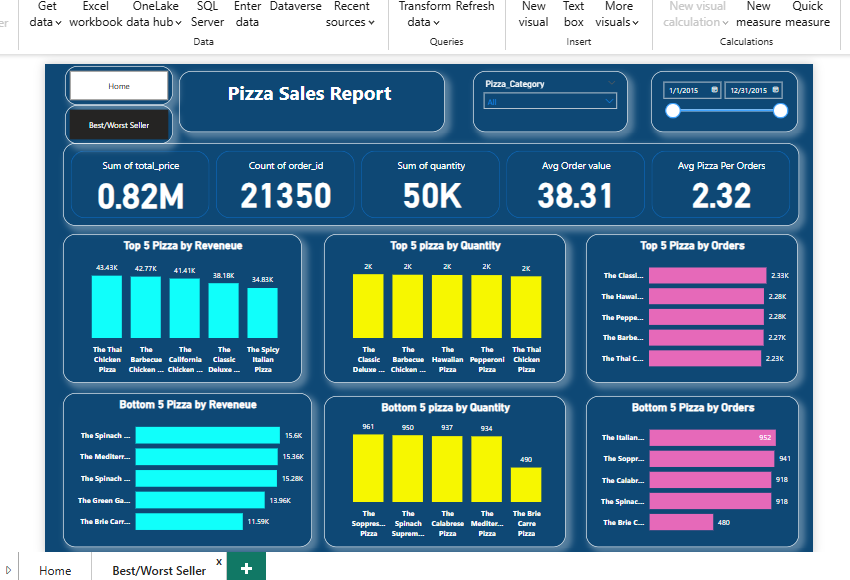

The dashboard page shown, as its layout file describes it:
{"tool":"powerbi","page":{"name":"Best/Worst Seller","canvas":[1280,820],"ordinal":1},"visuals":[{"type":"cardVisual","fields":{"Data":["Sum(pizza_sales.total_price)","Count(pizza_sales.order_id)","Sum(pizza_sales.quantity)","pizza_sales.Avg Order value","pizza_sales.Avg Pizza Per Orders"]},"box":[30,131.7,1226.7,138.3],"z":0},{"type":"columnChart","title":"Top 5 Pizza by Reveneue","fields":{"Category":["pizza_sales.pizza_name"],"Y":["Sum(pizza_sales.total_price)"]},"box":[30,283.3,398.3,248.3],"z":1000},{"type":"textbox","box":[223.3,11.7,443.3,101.7],"z":2000},{"type":"slicer","title":"Order Date","fields":{"Values":["pizza_sales.order_date"]},"box":[1010,11.7,245,101.7],"z":3000},{"type":"columnChart","title":"Top 5 pizza by Quantity","fields":{"Category":["pizza_sales.pizza_name"],"Y":["Sum(pizza_sales.quantity)"]},"box":[465,283.3,403.3,248.3],"z":5000},{"type":"clusteredBarChart","title":"Top 5 Pizza by Orders","fields":{"Category":["pizza_sales.pizza_name"],"Y":["Count(pizza_sales.order_id)"]},"box":[901.7,283.3,353.3,248.3],"z":6000},{"type":"clusteredBarChart","title":"Bottom 5 Pizza by Reveneue","fields":{"Category":["pizza_sales.pizza_name"],"Y":["Sum(pizza_sales.total_price)"]},"box":[30,548.3,415,256.7],"z":7000},{"type":"columnChart","title":"Bottom 5 pizza by Quantity","fields":{"Category":["pizza_sales.pizza_name"],"Y":["Sum(pizza_sales.quantity)"]},"box":[465,553.3,403.3,251.7],"z":8000},{"type":"clusteredBarChart","title":"Bottom 5 Pizza by Orders","fields":{"Category":["pizza_sales.pizza_name"],"Y":["Count(pizza_sales.order_id)"]},"box":[901.7,553.3,355,251.7],"z":9000},{"type":"slicer","fields":{"Values":["pizza_sales.pizza_category"]},"box":[713.3,11.7,258.3,101.7],"z":9001},{"type":"pageNavigator","box":[33.3,3.3,180,65],"z":9003},{"type":"pageNavigator","box":[33.3,68.3,180,65],"z":9004}]}

Visuals, with their boxes on the page's 1280x820 design canvas (x1, y1, x2, y2). These are canvas units, not pixel positions in the 850x580 screenshot, which may show the page scaled, cropped or inside an application window:
cardVisual - Sum(pizza_sales.total_price) x Count(pizza_sales.order_id): select_region(30, 132, 1257, 270)
"Top 5 Pizza by Reveneue" columnChart: select_region(30, 283, 428, 532)
textbox: select_region(223, 12, 667, 113)
"Order Date" slicer: select_region(1010, 12, 1255, 113)
"Top 5 pizza by Quantity" columnChart: select_region(465, 283, 868, 532)
"Top 5 Pizza by Orders" clusteredBarChart: select_region(902, 283, 1255, 532)
"Bottom 5 Pizza by Reveneue" clusteredBarChart: select_region(30, 548, 445, 805)
"Bottom 5 pizza by Quantity" columnChart: select_region(465, 553, 868, 805)
"Bottom 5 Pizza by Orders" clusteredBarChart: select_region(902, 553, 1257, 805)
slicer - pizza_sales.pizza_category: select_region(713, 12, 972, 113)
pageNavigator: select_region(33, 3, 213, 68)
pageNavigator: select_region(33, 68, 213, 133)
